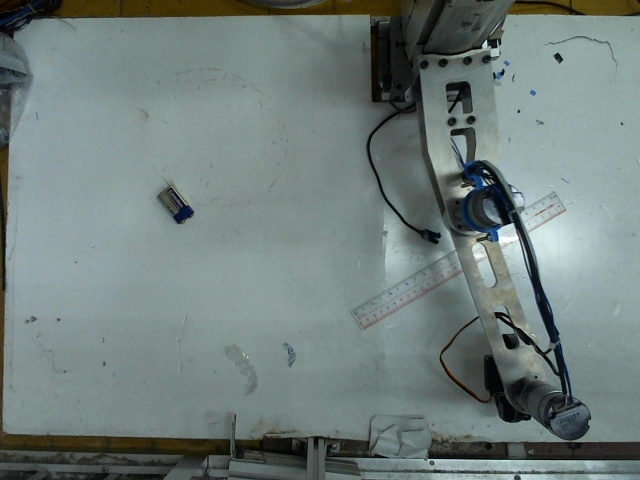battery: (154, 184, 197, 225)
